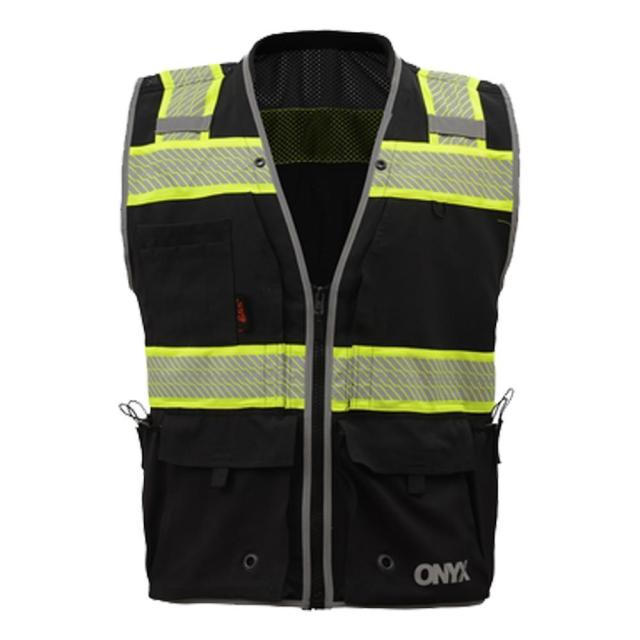Vest: (120, 27, 521, 614)
